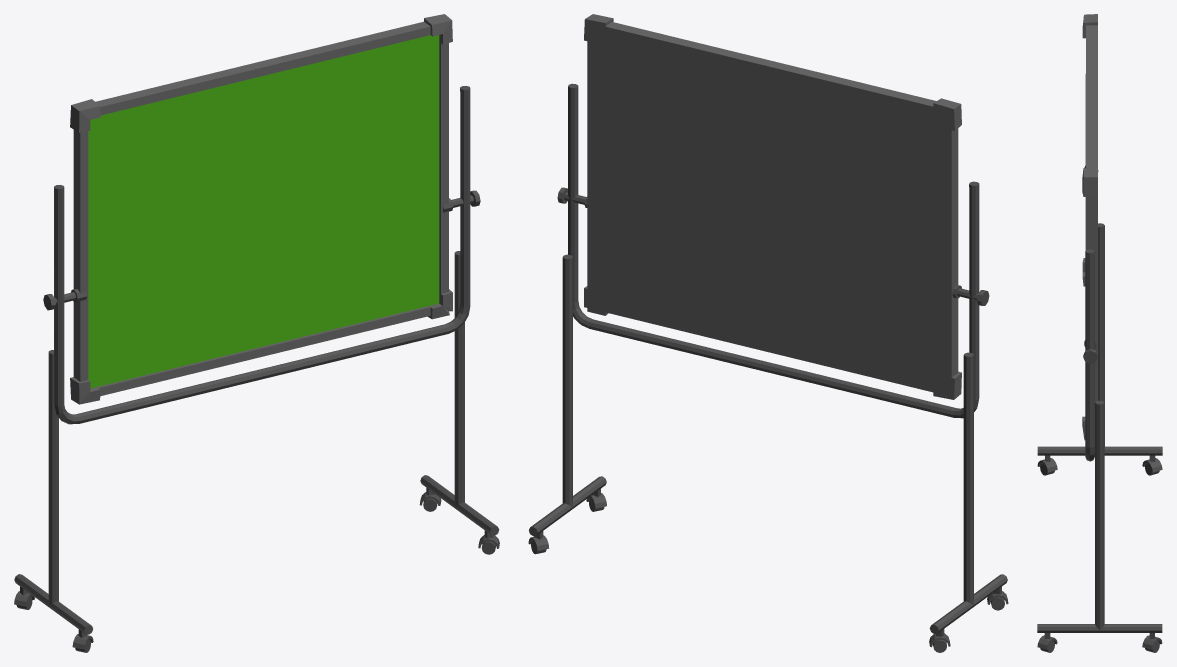
The model's file is Board_2c.fbx.
The picture shows the model from 3 angles, left to right: view 1: azimuth 30°, elevation 25°; view 2: azimuth 150°, elevation 25°; view 3: azimuth 270°, elevation 25°; orthographic projection. The views are drawn at different scales.
Parts seen in each view (by area): view 1: Board_2c; view 2: Board_2c; view 3: Board_2c.
Part boxes in pixels (box(x1,y1,x2,y2)): Board_2c: box(14, 14, 499, 652); Board_2c: box(528, 14, 1008, 652); Board_2c: box(1037, 14, 1162, 652).
Bounding box in the file's own units: 1.86 × 2.17 × 0.5253.
